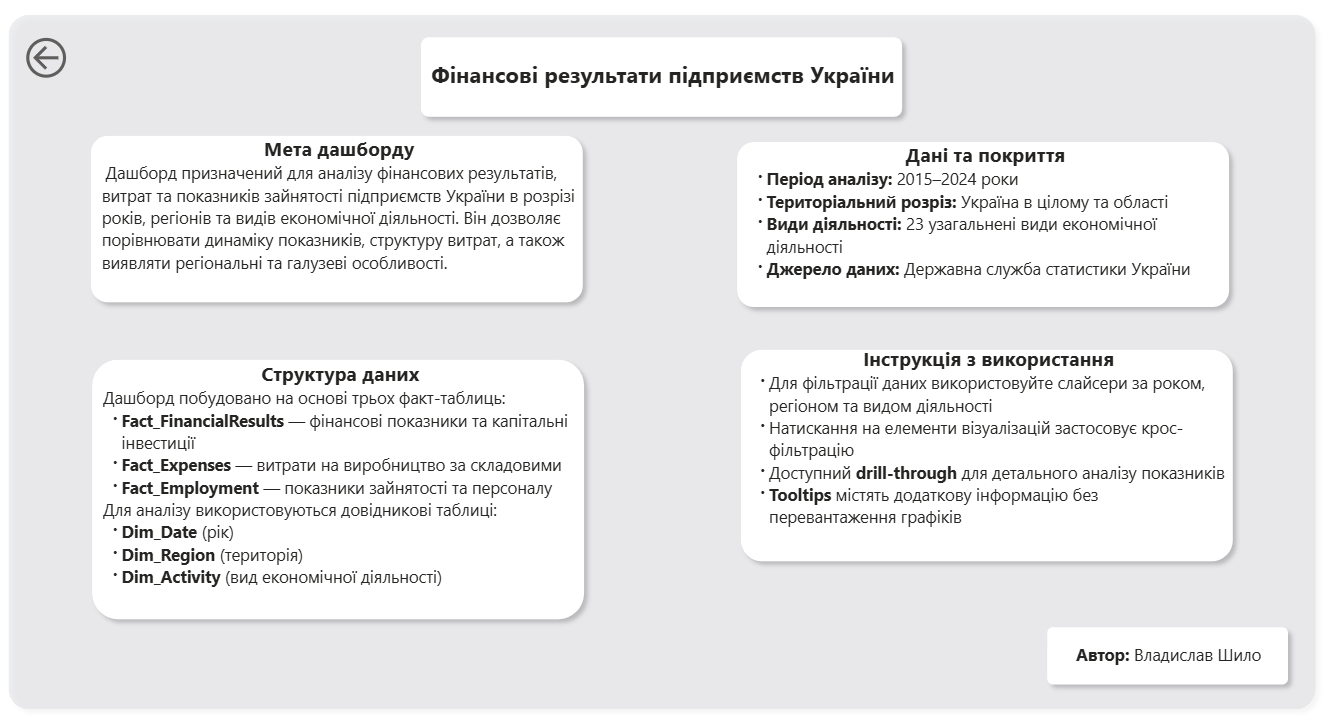

This screenshot's page, from the dashboard's own definition file:
{"tool":"powerbi","page":{"name":"INFO","canvas":[1280,720],"ordinal":5},"visuals":[{"type":"shape","box":[0,15.3,1280,688.7],"z":0},{"type":"group","id":"g1","title":"Група 7","box":[398.6,37.1,481.4,94.3],"z":1000},{"type":"group","id":"g2","title":"Група 7","box":[80,132.9,492.9,178.6],"z":2000},{"type":"group","id":"g3","title":"Група 7","box":[1002.9,607.1,250,72.9],"z":3000},{"type":"group","id":"g4","title":"Група 7","box":[702.9,138.6,492.9,177.1],"z":4000},{"type":"group","id":"g5","title":"Група 7","box":[81.4,348.6,492.9,268.6],"z":5000},{"type":"shape","box":[398.6,37.1,482.5,95],"z":6000,"group":"g1"},{"type":"shape","box":[80,132.9,492.9,178.6],"z":6000,"group":"g2"},{"type":"shape","box":[702.9,138.6,492.9,177.1],"z":6000,"group":"g4"},{"type":"group","id":"g6","title":"Група 7","box":[707.1,338.6,492.9,222.9],"z":6000},{"type":"shape","box":[707.1,339.1,492.9,222.3],"z":6000,"group":"g6"},{"type":"shape","box":[81.4,348.6,492.9,268.6],"z":6000,"group":"g5"},{"type":"shape","box":[1002.9,607.1,250.6,73.4],"z":6000,"group":"g3"},{"type":"actionButton","box":[20,37.1,50,58.6],"z":7000},{"type":"textbox","box":[412.4,62.1,458.8,67.5],"z":7000,"group":"g1"},{"type":"textbox","box":[94.8,136.2,468.4,170.8],"z":7000,"group":"g2"},{"type":"textbox","box":[717.7,141.9,468.4,169.5],"z":7000,"group":"g4"},{"type":"textbox","box":[720.2,338.6,470,209.3],"z":7000,"group":"g6"},{"type":"textbox","box":[96.2,353.6,468.4,256.9],"z":7000,"group":"g5"},{"type":"textbox","box":[1010,626.4,238.2,52.2],"z":7000,"group":"g3"}]}

Visuals, with their boxes in screenshot pixels (x1, y1, x2, y2), scaled from the page's 1280x720 canvas onto the 1325x725 screenshot:
shape: left=0, top=15, right=1324, bottom=709
"Група 7" group: left=413, top=37, right=911, bottom=132
"Група 7" group: left=83, top=134, right=593, bottom=314
"Група 7" group: left=1038, top=611, right=1297, bottom=685
"Група 7" group: left=728, top=140, right=1238, bottom=318
"Група 7" group: left=84, top=351, right=594, bottom=621
shape: left=413, top=37, right=912, bottom=133
shape: left=83, top=134, right=593, bottom=314
shape: left=728, top=140, right=1238, bottom=318
"Група 7" group: left=732, top=341, right=1242, bottom=565
shape: left=732, top=341, right=1242, bottom=565
shape: left=84, top=351, right=594, bottom=621
shape: left=1038, top=611, right=1298, bottom=685
actionButton: left=21, top=37, right=72, bottom=96
textbox: left=427, top=63, right=902, bottom=130
textbox: left=98, top=137, right=583, bottom=309
textbox: left=743, top=143, right=1228, bottom=314
textbox: left=746, top=341, right=1232, bottom=552
textbox: left=100, top=356, right=584, bottom=615
textbox: left=1046, top=631, right=1292, bottom=683
